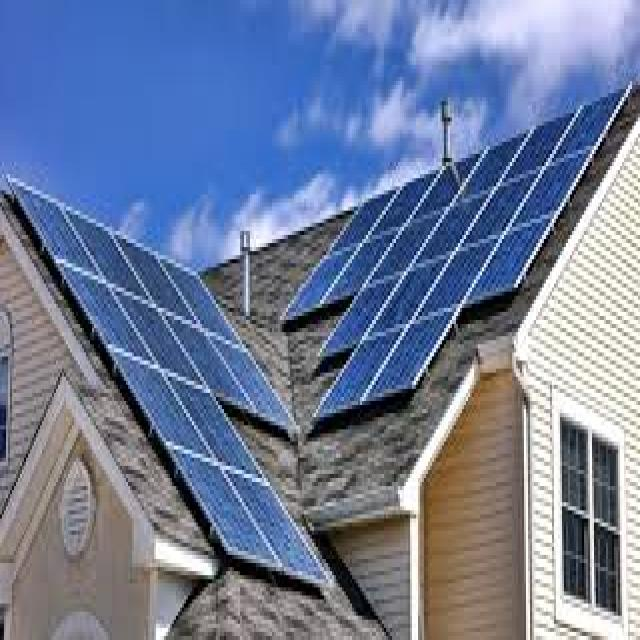clean-solar-panel: (6, 175, 332, 585), (276, 81, 631, 422)
